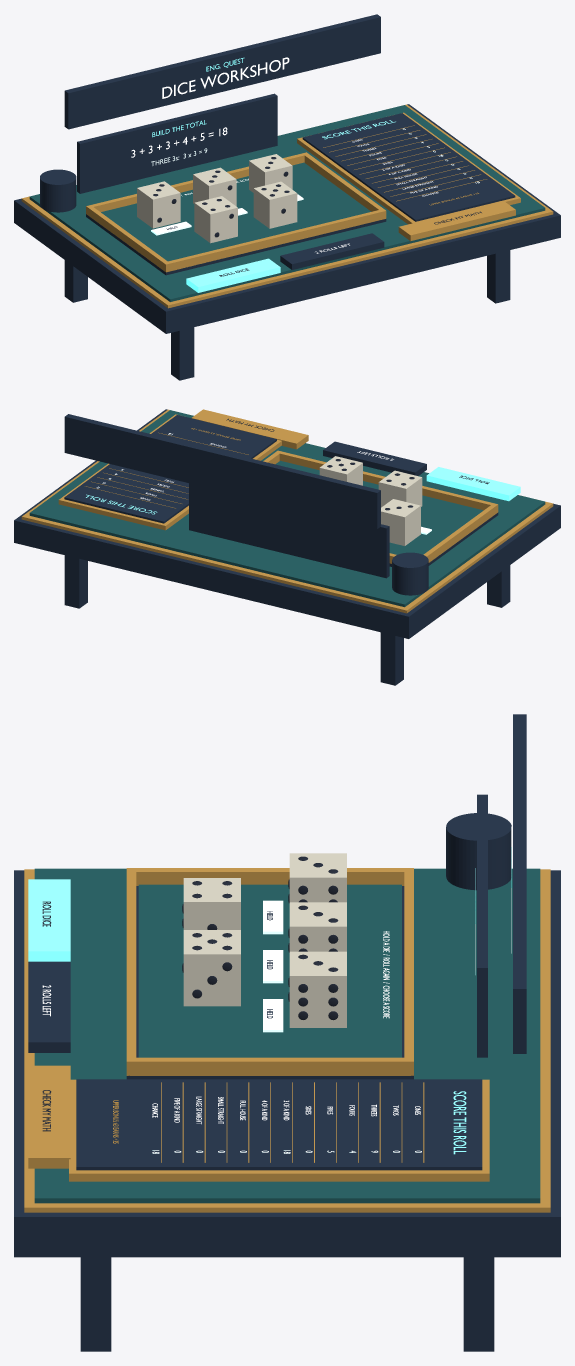
The model's file is table.glb.
3 views of the same model, one above another, from view 1: azimuth 30°, elevation 25°; view 2: azimuth 150°, elevation 25°; view 3: azimuth 270°, elevation 25° (orthographic). The views are drawn at different scales.
Visible parts, largest first — view 1: Table chassis, Marquee, Playing surface, Scorecard panel, Math screen, Tray felt, Brass rim, Tray end bumper, Check_Button, Rolls_Remaining, Die_5_body, Die_1_body (+14 smaller); view 2: Table chassis, Playing surface, Marquee, Math screen, Scorecard panel, Brass rim, Tray felt, Rolls_Remaining, Roll_Button, Dice cup, Check_Button, Die_1_body (+8 smaller); view 3: Playing surface, Scorecard panel, Table chassis, Tray felt, Brass rim, Scorecard frame, Tray side bumper.001, Marquee, Check_Button, Die_5_body, Die_3_body, Rolls_Remaining (+12 smaller).
Part boxes in pixels (x1,y1,x2,y2): Table chassis: [14, 104, 560, 333]; Marquee: [64, 14, 380, 129]; Playing surface: [29, 105, 545, 301]; Scorecard panel: [302, 113, 515, 221]; Math screen: [77, 93, 277, 193]; Tray felt: [101, 162, 371, 261]; Brass rim: [21, 104, 553, 308]; Tray end bumper: [163, 209, 386, 272]; Check_Button: [398, 201, 515, 241]; Rolls_Remaining: [280, 233, 384, 269]; Die_5_body: [253, 181, 297, 228]; Die_1_body: [137, 181, 180, 228]; Table chassis: [14, 409, 560, 638]; Playing surface: [29, 410, 545, 607]; Marquee: [64, 414, 380, 528]; Math screen: [189, 483, 389, 578]; Scorecard panel: [64, 415, 276, 523]; Brass rim: [21, 409, 553, 613]; Tray felt: [275, 460, 483, 554]; Rolls_Remaining: [323, 441, 426, 475]; Roll_Button: [426, 467, 520, 501]; Dice cup: [392, 552, 428, 595]; Check_Button: [191, 409, 308, 449]; Die_1_body: [381, 499, 420, 545]; Playing surface: [34, 868, 540, 1203]; Scorecard panel: [76, 1079, 482, 1170]; Table chassis: [14, 870, 560, 1257]; Tray felt: [138, 884, 401, 1057]; Brass rim: [24, 869, 550, 1212]; Scorecard frame: [69, 1079, 489, 1181]; Tray side bumper.001: [130, 1057, 410, 1075]; Marquee: [513, 714, 526, 1053]; Check_Button: [28, 1065, 70, 1168]; Die_5_body: [183, 930, 240, 1006]; Die_3_body: [289, 951, 346, 1027]; Rolls_Remaining: [28, 961, 70, 1052].
Bounding box in the file's own units: 12 × 5.72 × 8.
